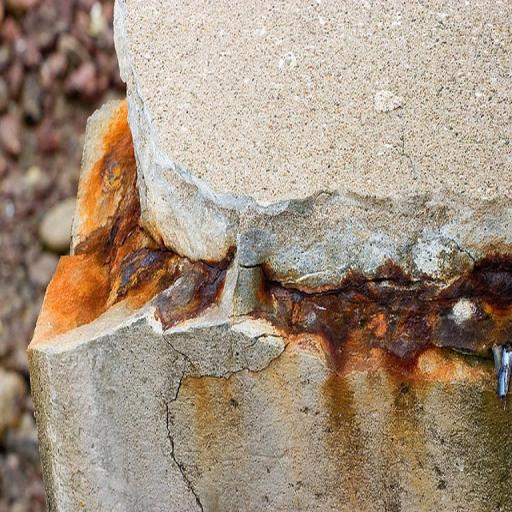spalling: (36, 3, 510, 389)
